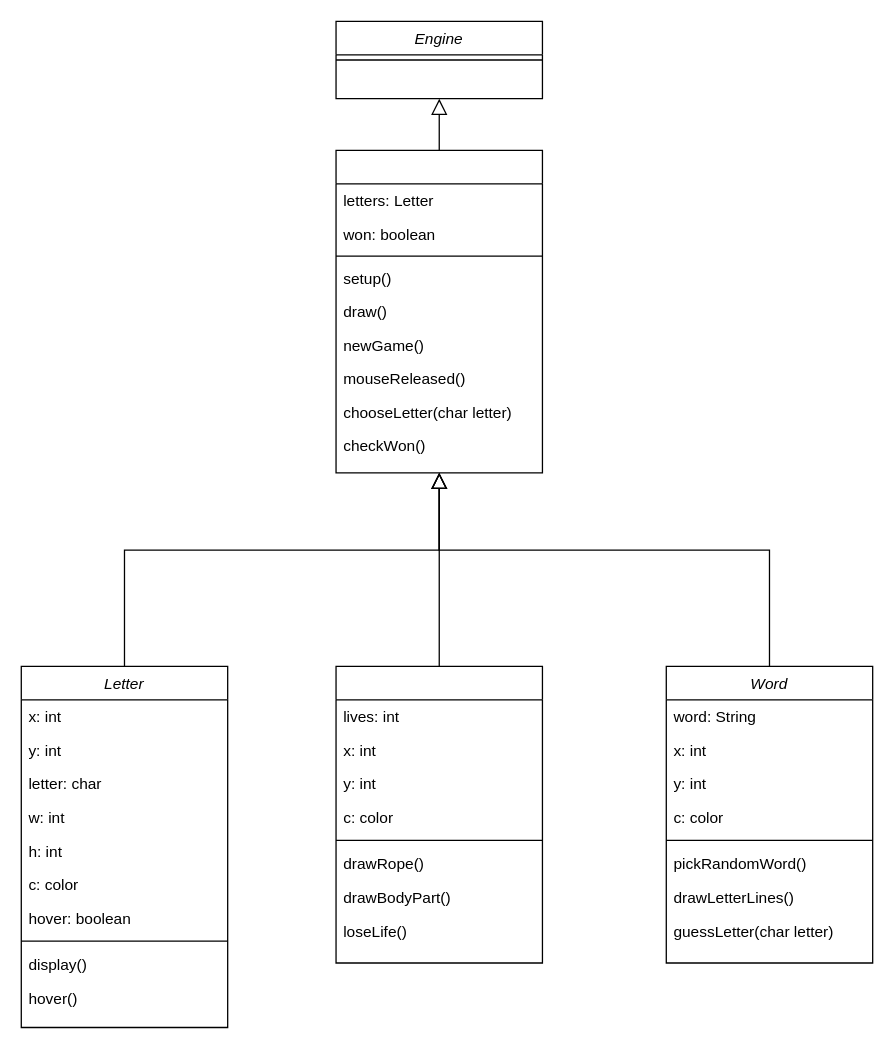
Image size: 894x1049. Some labels were removed from this diagram. The shapes that lost their labels are listed below. From the top down, each one's box as (x1, y1, x2, y2) in pixels, then its label:
(335, 149, 542, 473): HangmanApp
(335, 665, 542, 963): Person
